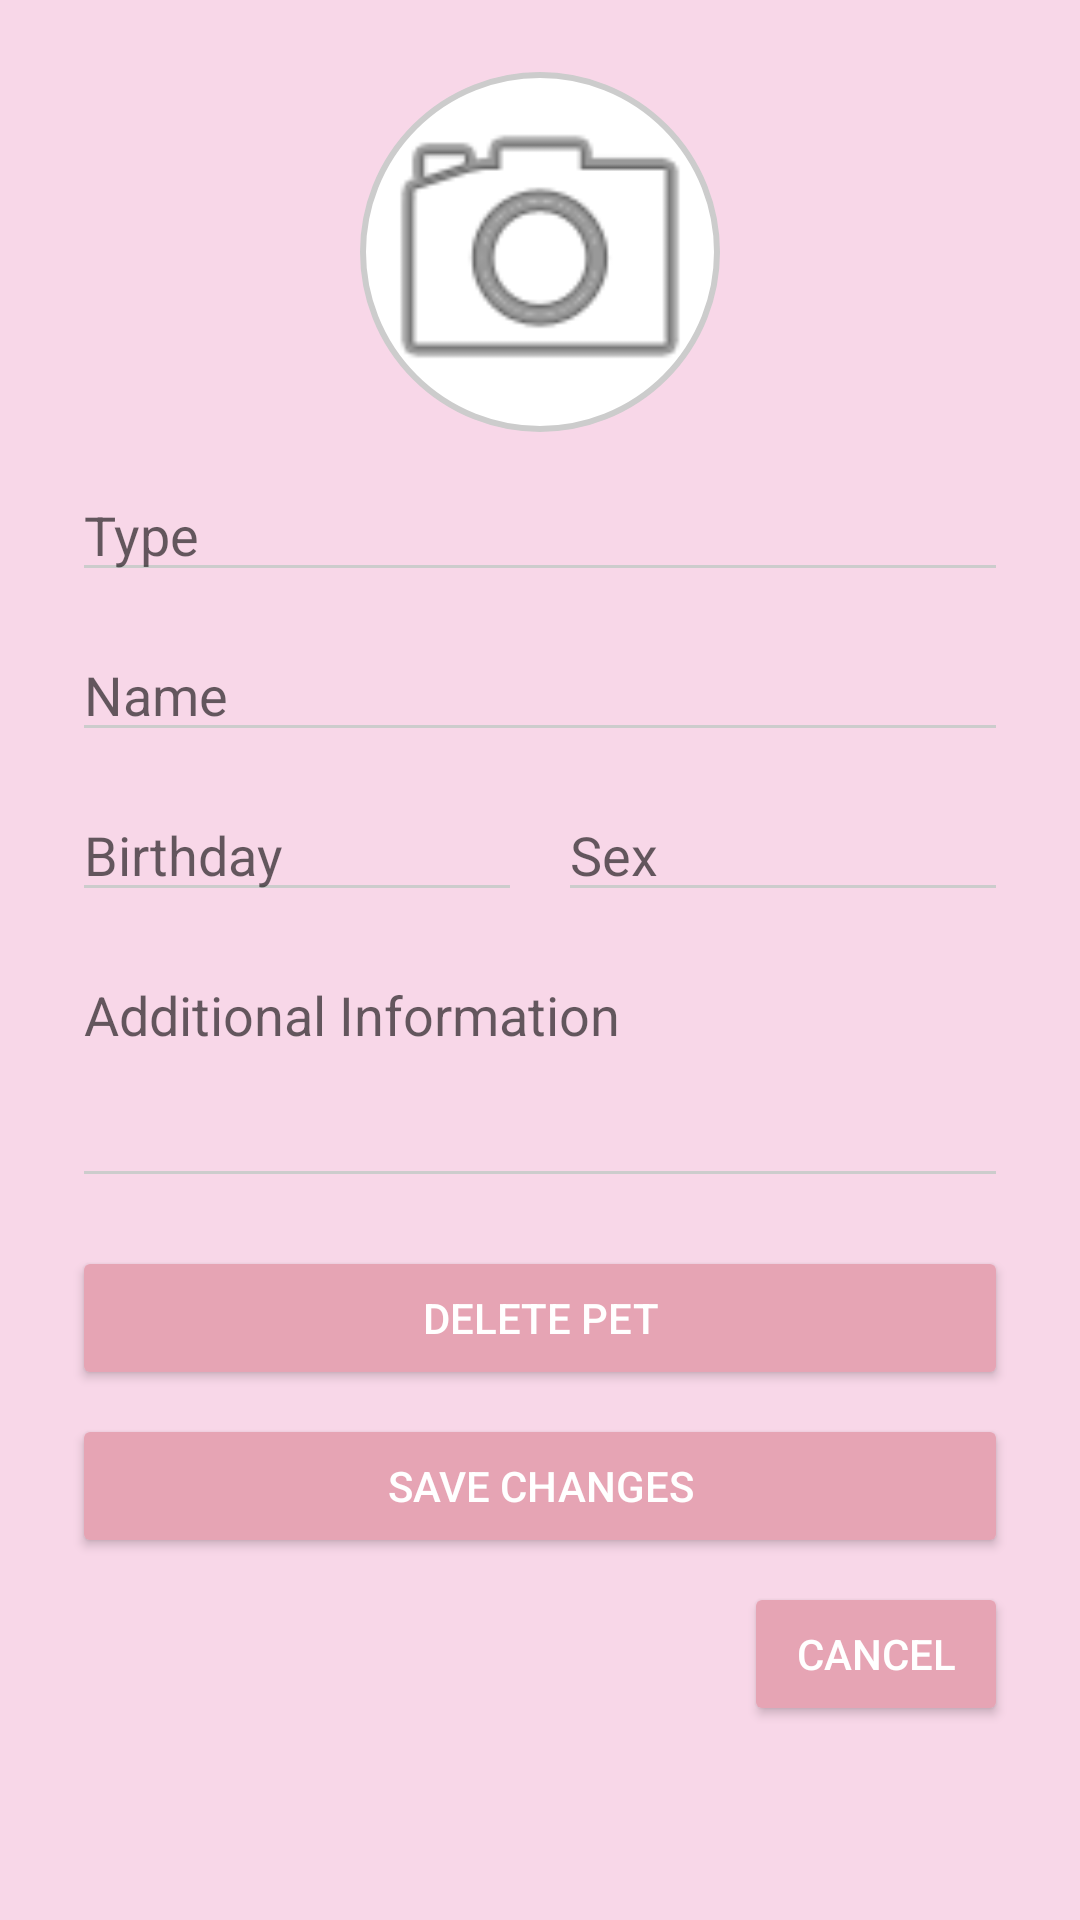

Icon bounding boxes for this 1080x1920 phone screenshot, format {"left": x1, "top": y1, "right": x2, "bottom": y2}:
Pet image: {"left": 360, "top": 72, "right": 720, "bottom": 432}
